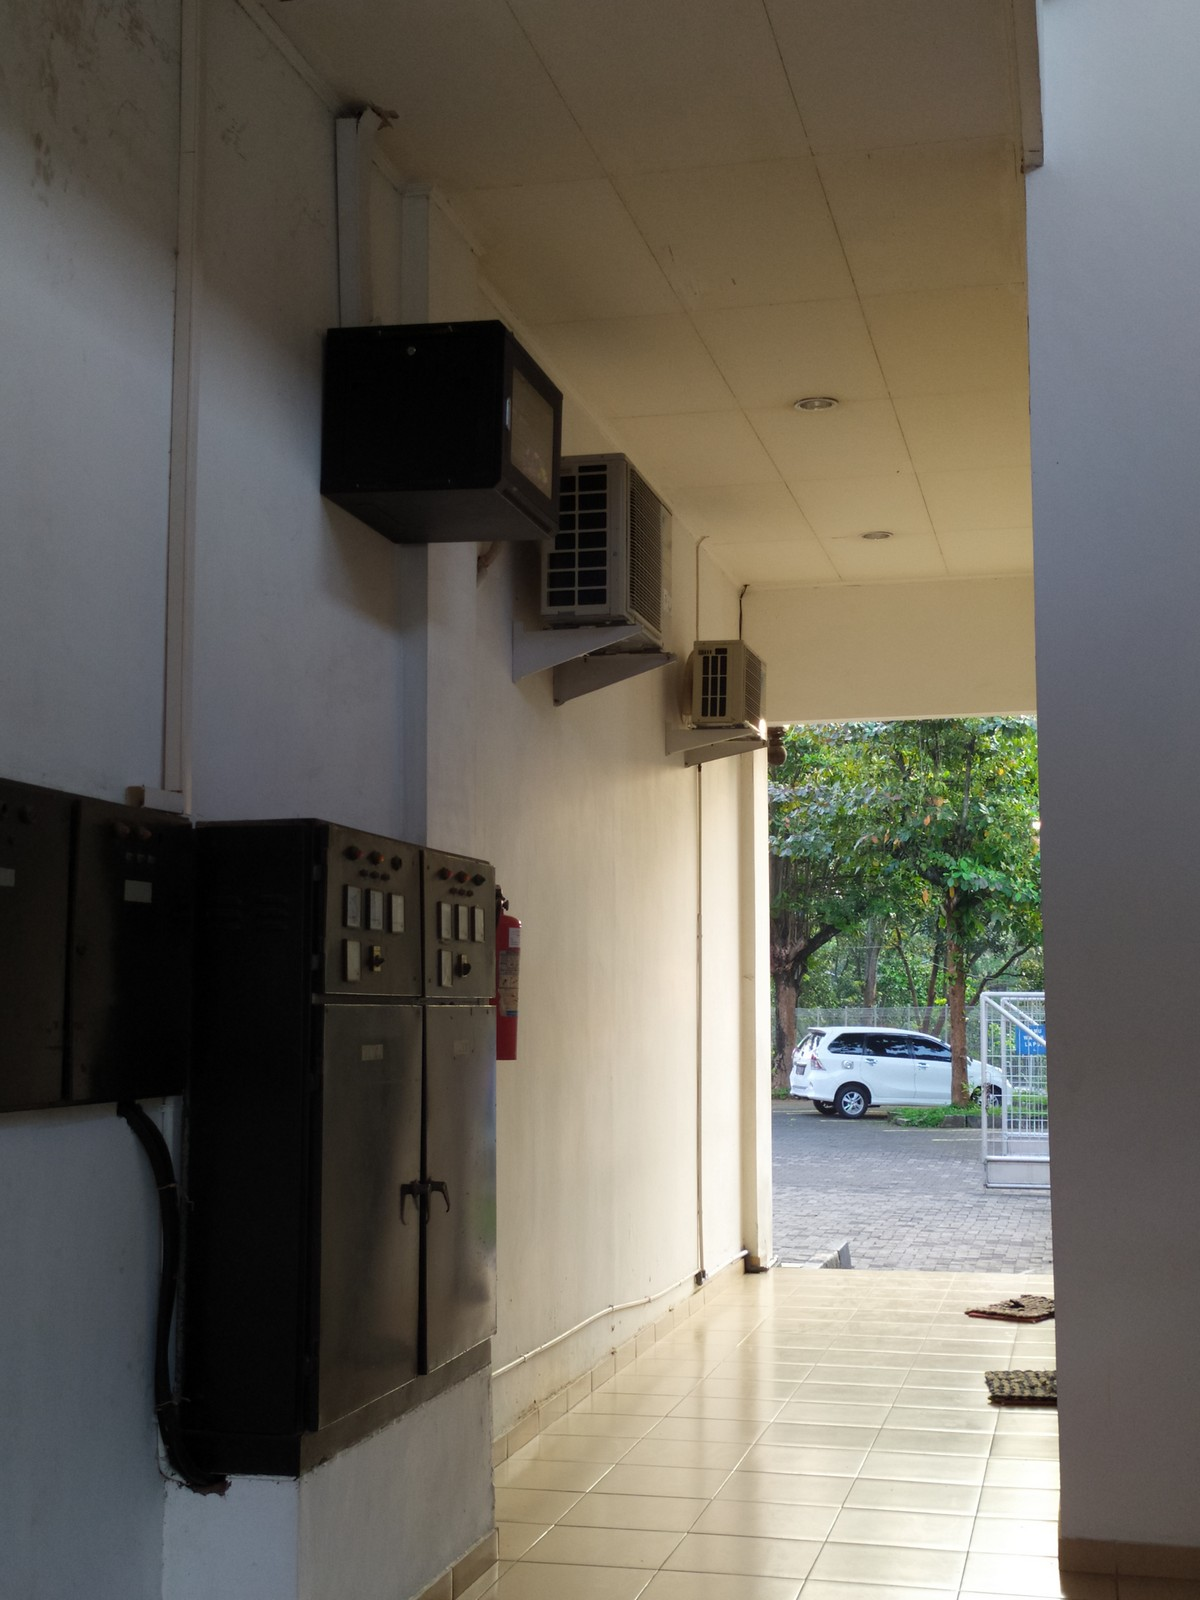concrete column: (392, 170, 523, 1546), (730, 707, 794, 1279)
